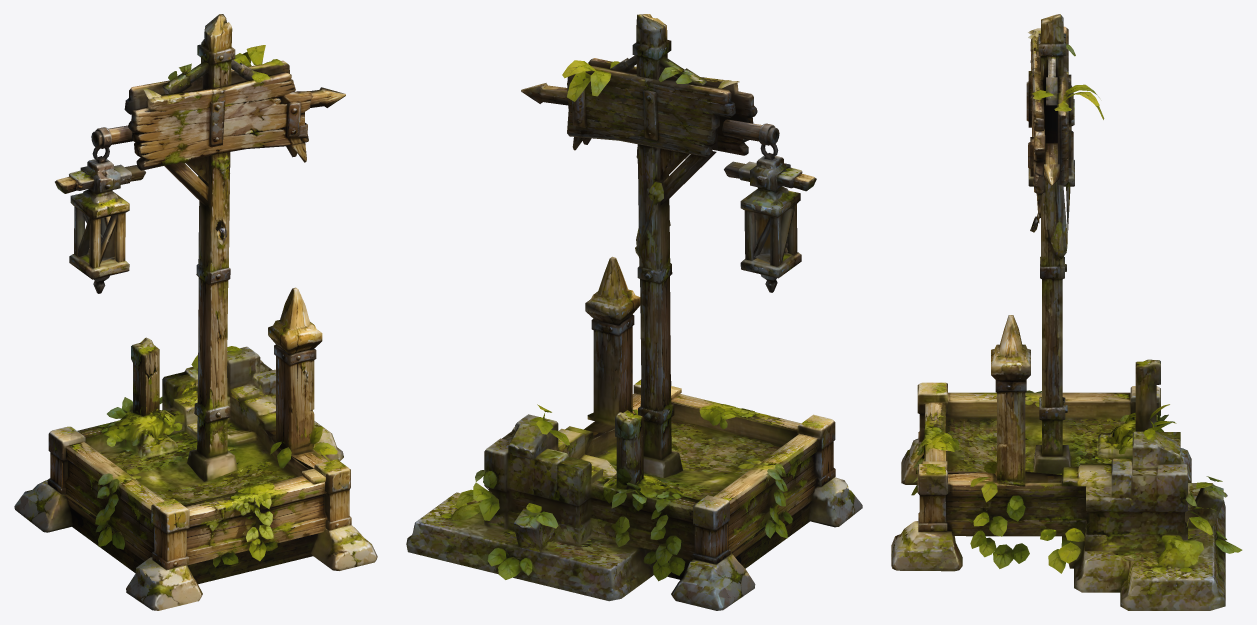
File: wooden+signpost+3d+model.fbx
3 views of the same model, side by side, from view 1: azimuth 30°, elevation 25°; view 2: azimuth 150°, elevation 25°; view 3: azimuth 270°, elevation 25° (orthographic). The views are drawn at different scales.
Parts seen in each view (by area): view 1: tripo_7a76ea0d_19d8_4dd0_b3e0_f72e98eb7639; view 2: tripo_7a76ea0d_19d8_4dd0_b3e0_f72e98eb7639; view 3: tripo_7a76ea0d_19d8_4dd0_b3e0_f72e98eb7639.
Part boxes in pixels (x1=…): tripo_7a76ea0d_19d8_4dd0_b3e0_f72e98eb7639: x1=14, y1=14, x2=377, y2=610; tripo_7a76ea0d_19d8_4dd0_b3e0_f72e98eb7639: x1=406, y1=14, x2=862, y2=610; tripo_7a76ea0d_19d8_4dd0_b3e0_f72e98eb7639: x1=891, y1=14, x2=1242, y2=610.
Bounding box in the file's own units: 0.6655 × 0.9995 × 0.6138.
